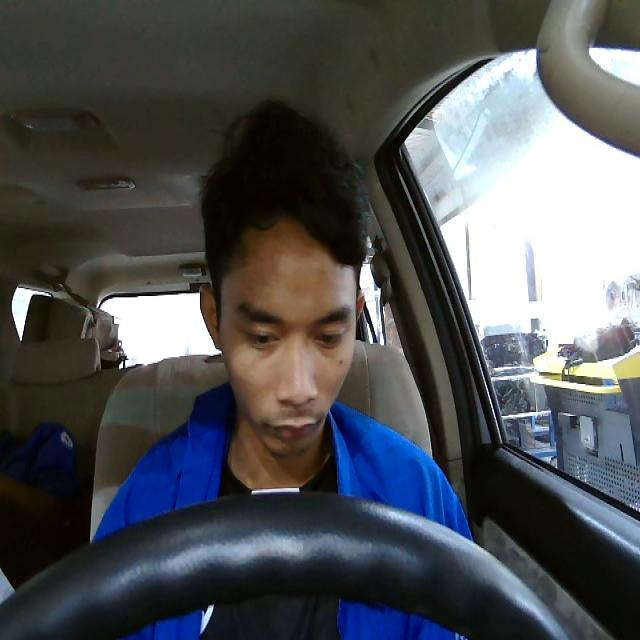seeing_right: (198, 215, 366, 454)
